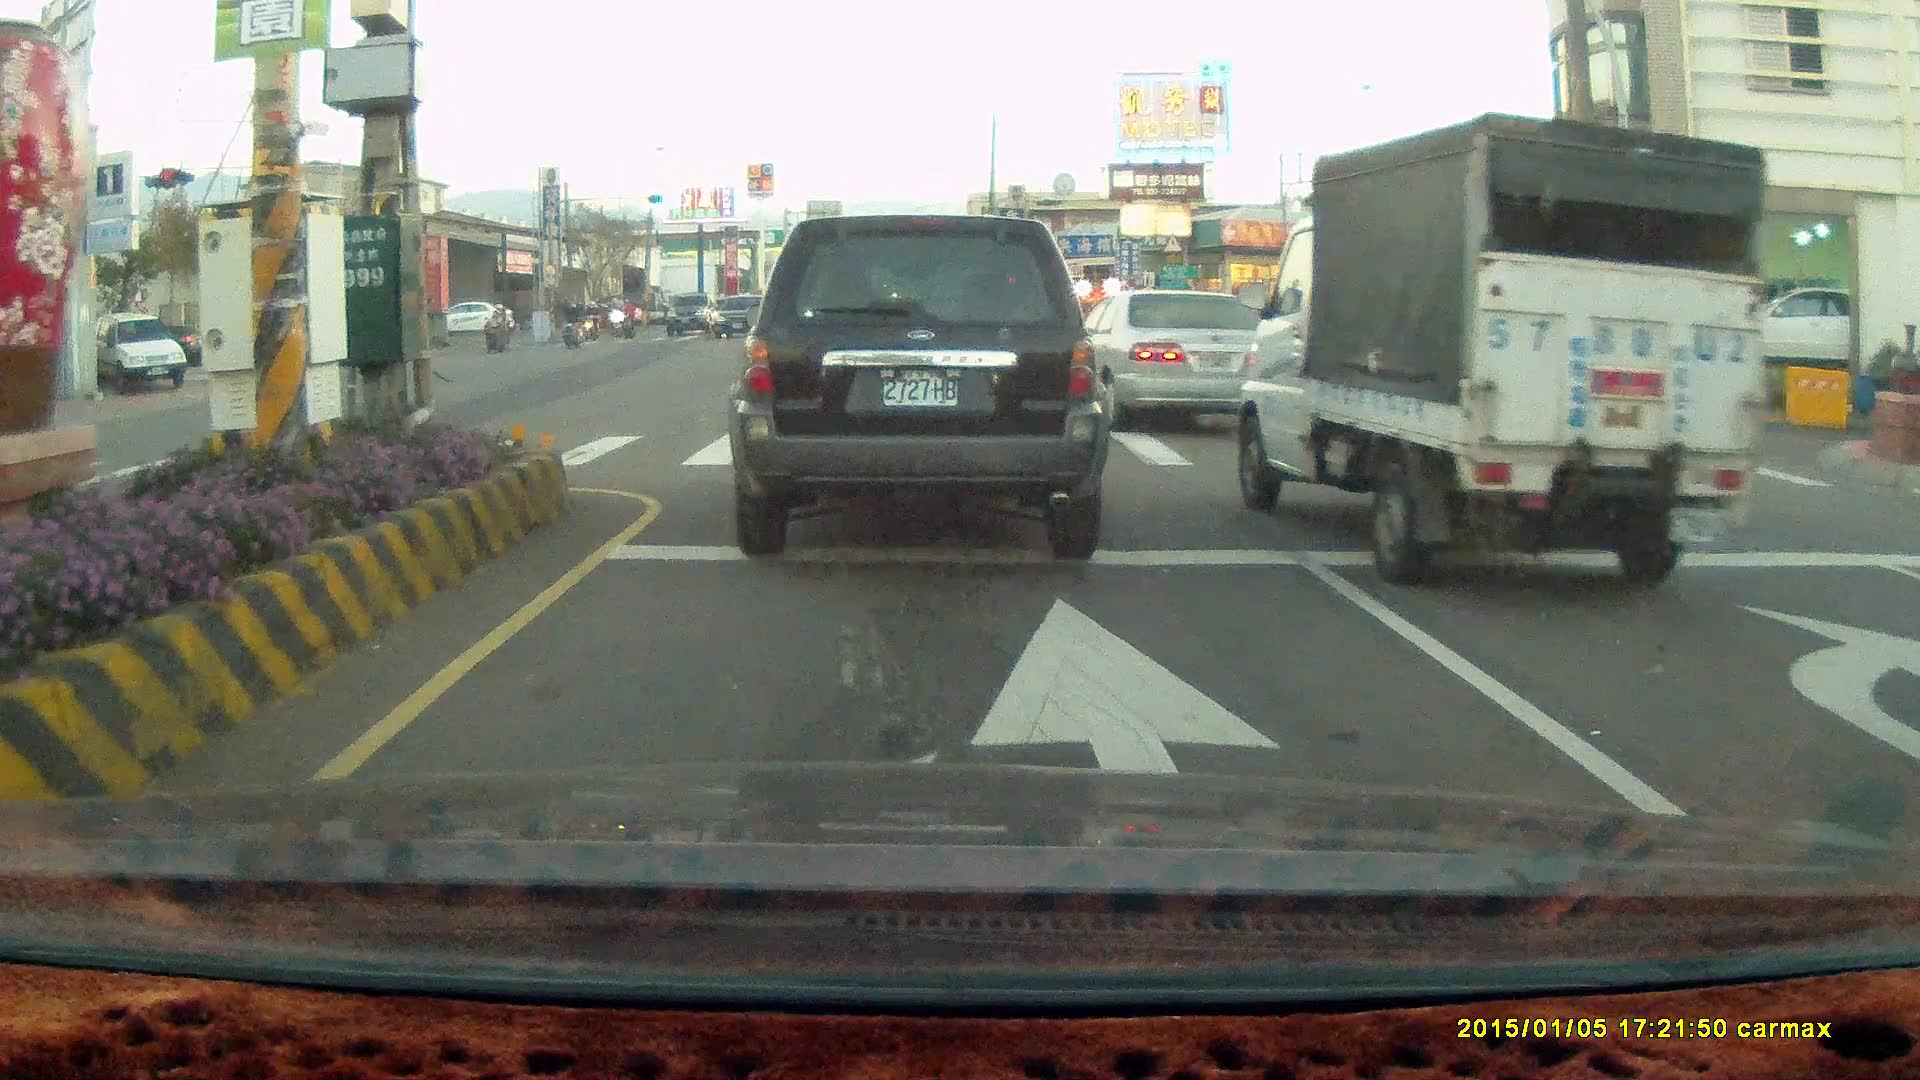rider: (481, 299, 516, 349), (556, 297, 584, 350), (575, 295, 598, 338), (619, 297, 640, 340)
vehicle: (1234, 109, 1765, 584), (723, 211, 1111, 562), (1065, 283, 1294, 430), (1077, 286, 1286, 439), (1692, 283, 1907, 379), (1708, 286, 1865, 373), (81, 314, 189, 390), (447, 301, 516, 339)
